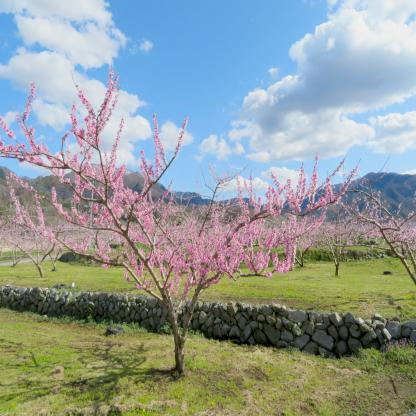Momo: (0, 60, 362, 282), (307, 195, 416, 250), (62, 202, 177, 244), (172, 198, 274, 245), (0, 212, 67, 258), (272, 190, 318, 249)
